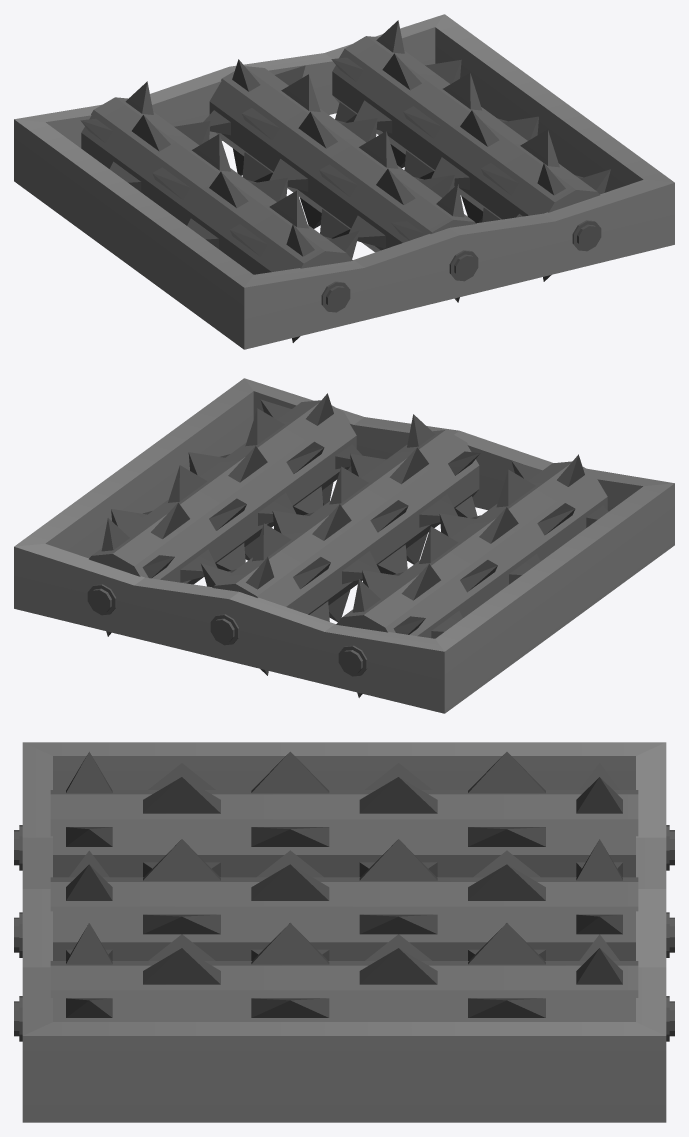
File: Triple_Rotating_Spines.fbx
3 renders of one model, top to bottom at view 1: azimuth 30°, elevation 25°; view 2: azimuth 150°, elevation 25°; view 3: azimuth 270°, elevation 25°, orthographic. The views are drawn at different scales.
Parts seen in each view (by area): view 1: Triple_Rotating_Spines, Triple_Rotating_Spines_Right, Triple_Rotating_Spines_Middle, Triple_Rotating_Spines_Left; view 2: Triple_Rotating_Spines, Triple_Rotating_Spines_Middle, Triple_Rotating_Spines_Right, Triple_Rotating_Spines_Left; view 3: Triple_Rotating_Spines, Triple_Rotating_Spines_Left, Triple_Rotating_Spines_Middle, Triple_Rotating_Spines_Right.
Boxes of the visible parts, x1,y1,x2,y2 form: Triple_Rotating_Spines: [14, 14, 674, 349]; Triple_Rotating_Spines_Right: [331, 20, 610, 281]; Triple_Rotating_Spines_Middle: [203, 59, 478, 302]; Triple_Rotating_Spines_Left: [80, 81, 359, 342]; Triple_Rotating_Spines: [14, 378, 674, 713]; Triple_Rotating_Spines_Middle: [200, 414, 480, 675]; Triple_Rotating_Spines_Right: [87, 393, 362, 636]; Triple_Rotating_Spines_Left: [336, 454, 608, 697]; Triple_Rotating_Spines: [22, 742, 666, 1122]; Triple_Rotating_Spines_Left: [14, 751, 674, 877]; Triple_Rotating_Spines_Middle: [14, 839, 674, 960]; Triple_Rotating_Spines_Right: [14, 922, 674, 1041].
Size of the model in its own units: 83.16 by 22.06 by 79.07.
1 material, 1 textured.
